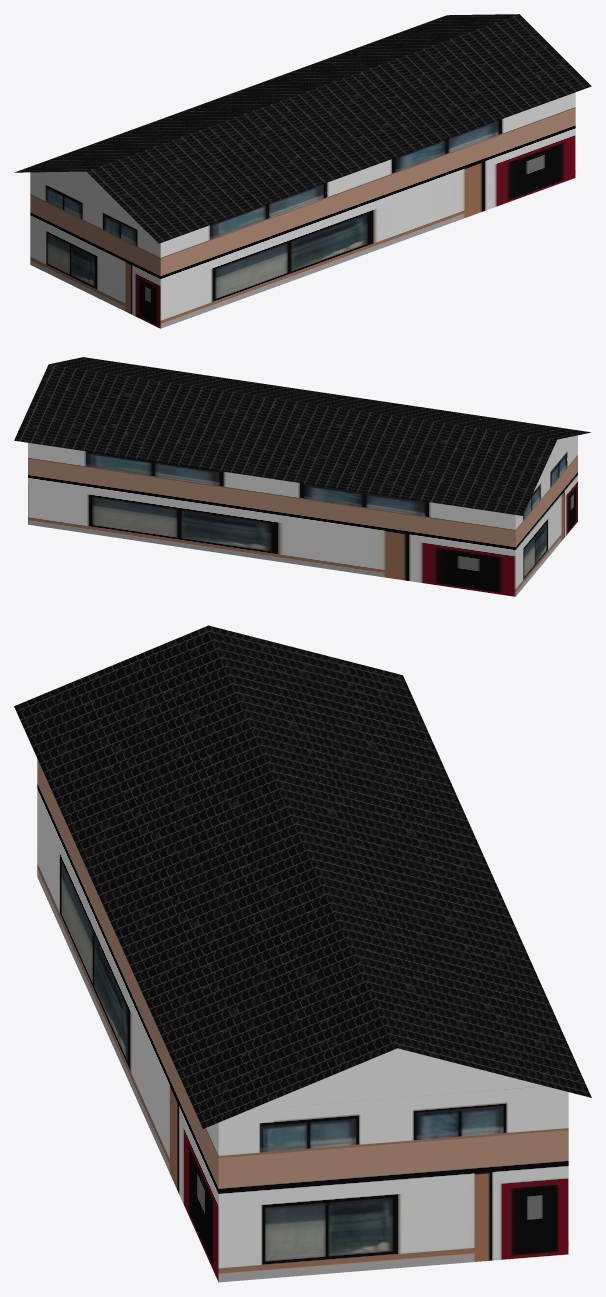
The picture shows the model from 3 angles, top to bottom: view 1: azimuth 30°, elevation 25°; view 2: azimuth 150°, elevation 25°; view 3: azimuth 270°, elevation 25°; orthographic projection. The views are drawn at different scales.
Parts seen in each view (by area): view 1: CityEngineMaterial_14_m, CityEngineMaterial_5_m, CityEngineMaterial_3_m; view 2: CityEngineMaterial_14_m, CityEngineMaterial_5_m; view 3: CityEngineMaterial_14_m, CityEngineMaterial_5_m, CityEngineMaterial_3_m.
Boxes of the visible parts, <box> form: CityEngineMaterial_14_m: <box>14,14,591,243</box>; CityEngineMaterial_5_m: <box>30,92,575,328</box>; CityEngineMaterial_3_m: <box>37,171,135,220</box>; CityEngineMaterial_14_m: <box>14,357,590,515</box>; CityEngineMaterial_5_m: <box>28,435,577,596</box>; CityEngineMaterial_14_m: <box>14,625,591,1128</box>; CityEngineMaterial_5_m: <box>37,759,568,1282</box>; CityEngineMaterial_3_m: <box>250,1048,544,1109</box>.
Size of the model in its own units: 50.92 by 11.98 by 27.41.
